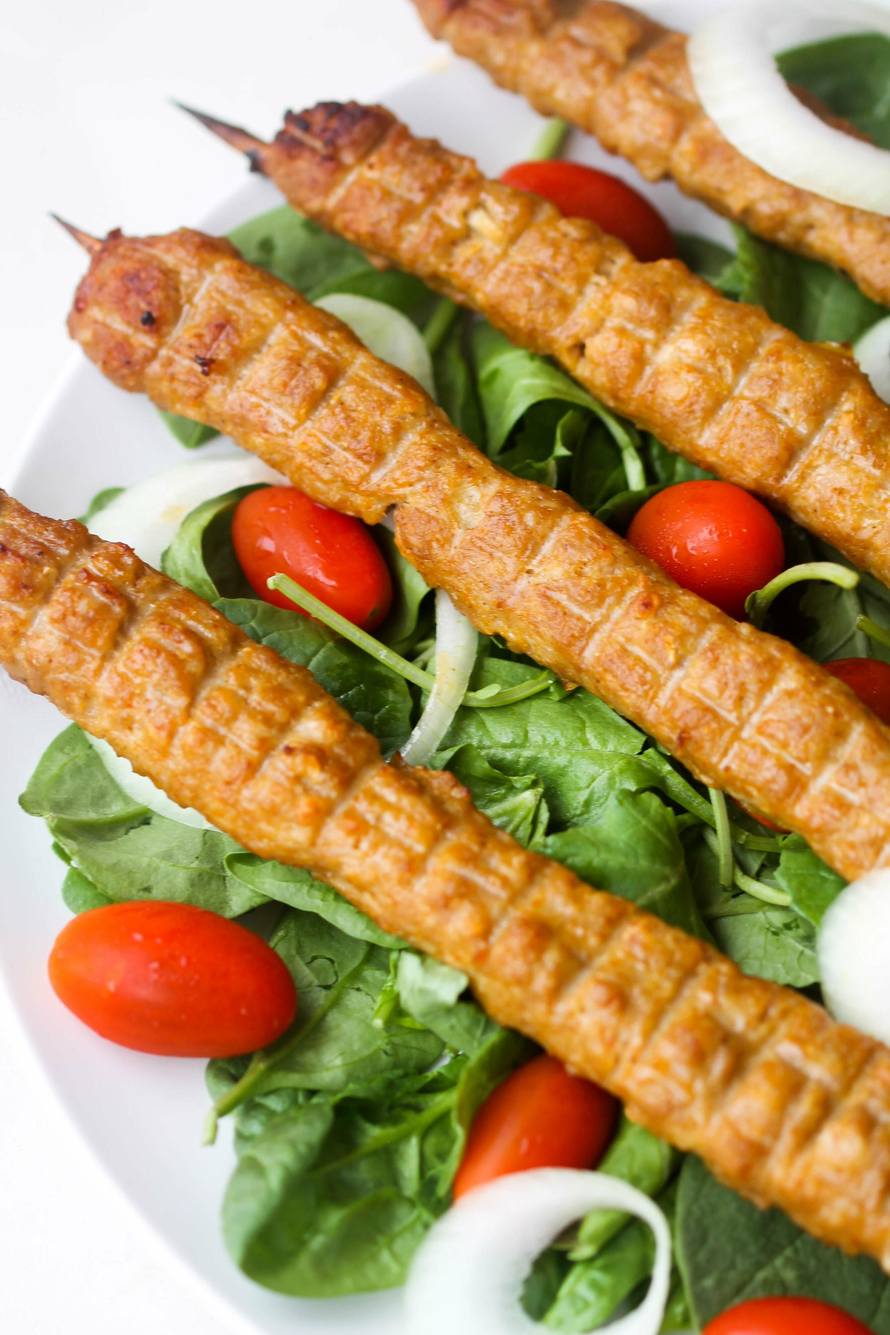Kebab: (0, 492, 890, 1268), (72, 227, 890, 880), (261, 98, 890, 589), (411, 0, 890, 305)
